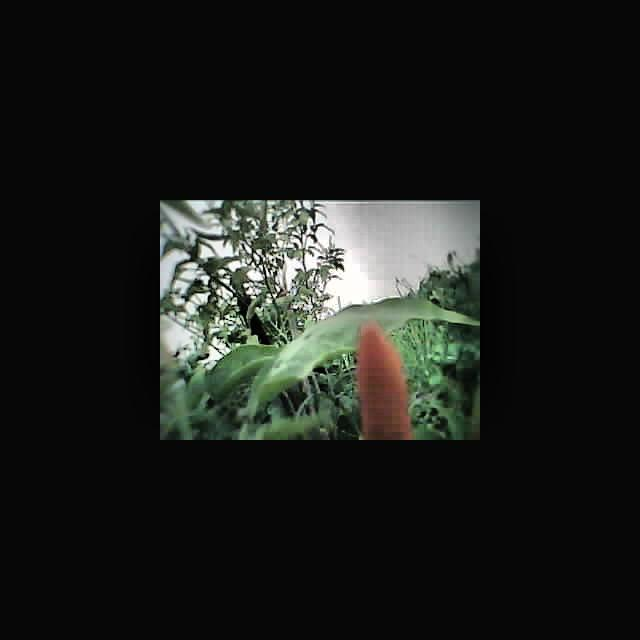Cabai: (353, 329, 406, 439)
